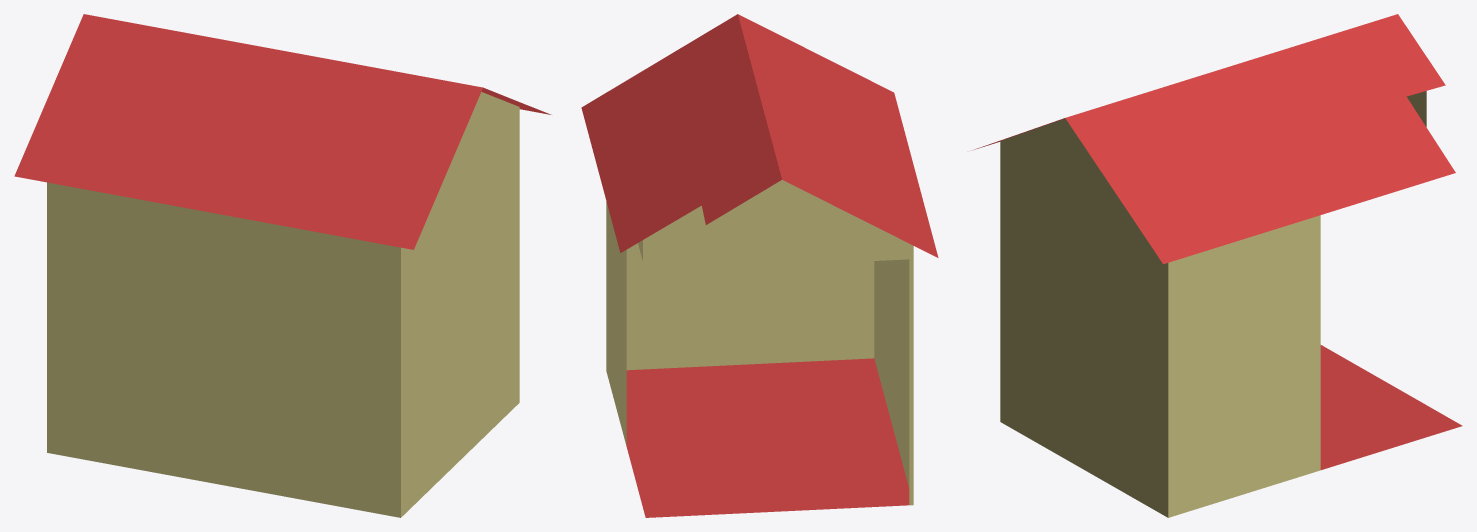
3 views of the same model, side by side, from view 1: azimuth 30°, elevation 25°; view 2: azimuth 150°, elevation 25°; view 3: azimuth 270°, elevation 25° (orthographic). The views are drawn at different scales.
Visible parts, largest first — view 1: group_5, group_3; view 2: group_3, group_5, group_6, group_4; view 3: group_5, group_3, group_6, group_4.
Boxes of the visible parts, x1=… form: group_5: x1=47, y1=92, x2=519, y2=517; group_3: x1=14, y1=14, x2=551, y2=249; group_3: x1=581, y1=14, x2=938, y2=257; group_5: x1=606, y1=180, x2=913, y2=505; group_6: x1=626, y1=358, x2=909, y2=517; group_4: x1=582, y1=30, x2=780, y2=217; group_5: x1=1000, y1=91, x2=1426, y2=517; group_3: x1=972, y1=14, x2=1455, y2=264; group_6: x1=1320, y1=345, x2=1462, y2=469; group_4: x1=1077, y1=15, x2=1438, y2=263.
Bounding box in the file's own units: 10.78 × 10.45 × 8.33.
